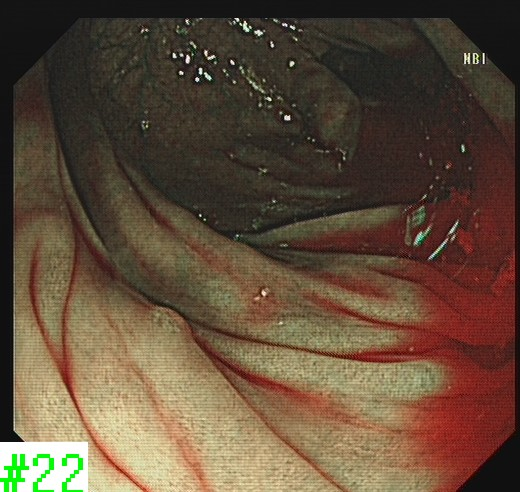others: (142, 304, 194, 344)
